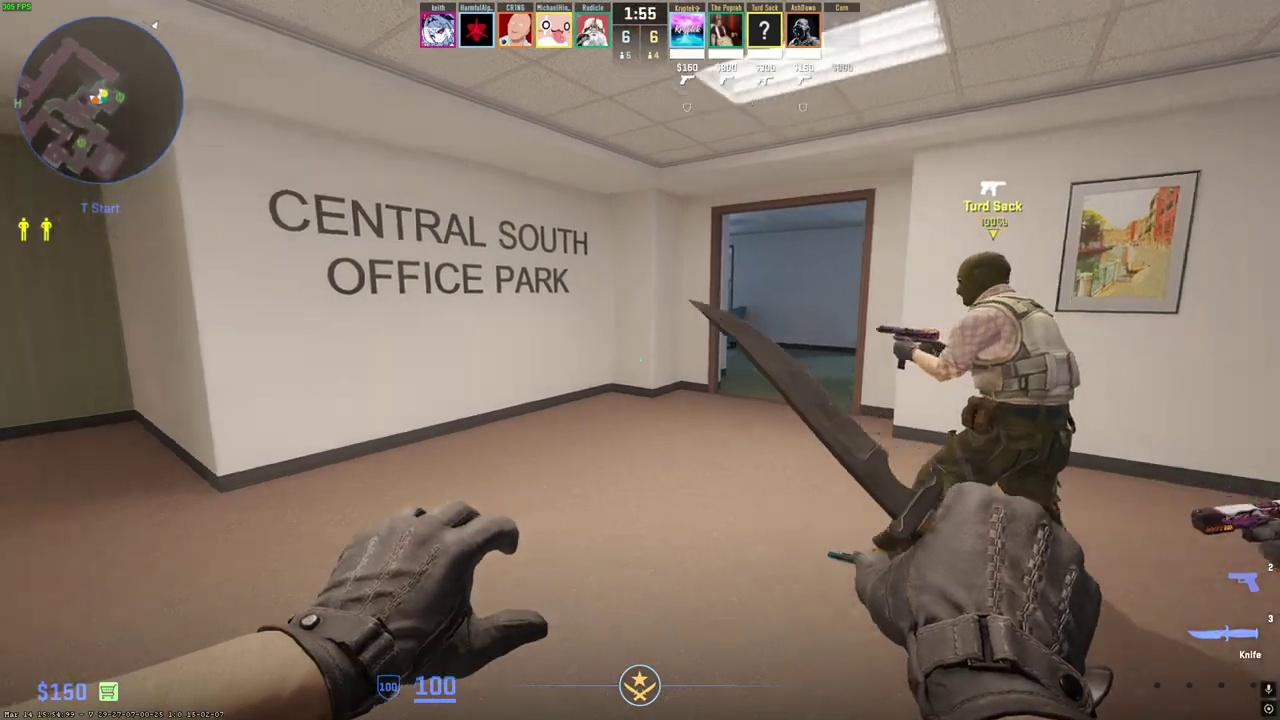Terrorist: (916, 249, 1081, 527)
